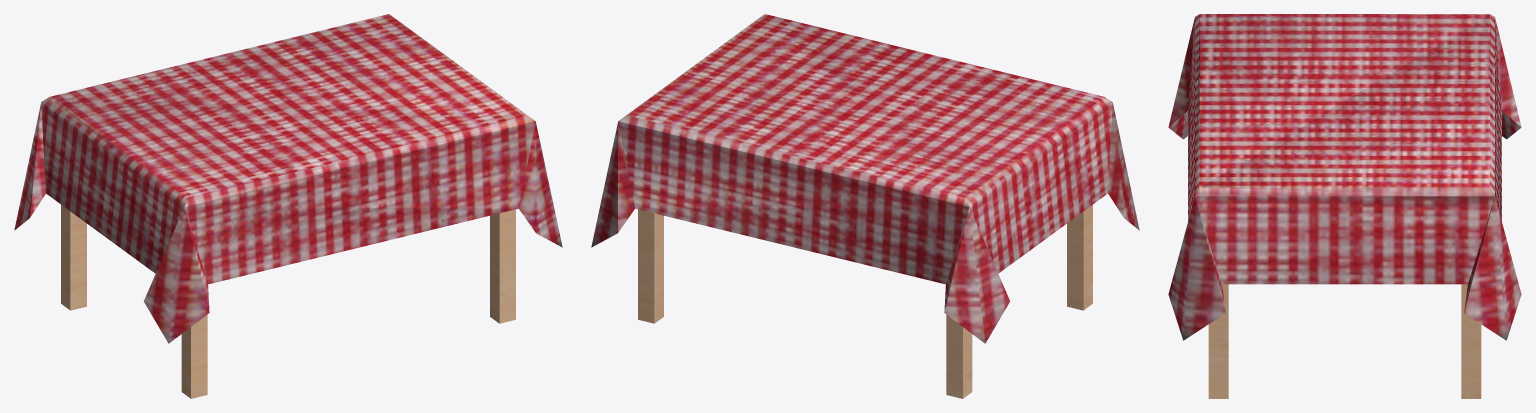
Rendered from mesa_c.glb.
The picture shows the model from 3 angles, left to right: view 1: azimuth 30°, elevation 25°; view 2: azimuth 150°, elevation 25°; view 3: azimuth 270°, elevation 25°; orthographic projection. The views are drawn at different scales.
Parts seen in each view (by area): view 1: mesa_c; view 2: mesa_c; view 3: mesa_c.
Boxes of the visible parts, x1,y1,x2,y2 form: mesa_c: (14,14,562,398); mesa_c: (591,14,1139,398); mesa_c: (1168,14,1521,398).
Bounding box in the file's own units: 1.93 × 0.9392 × 1.4.
1 material, 1 textured.
